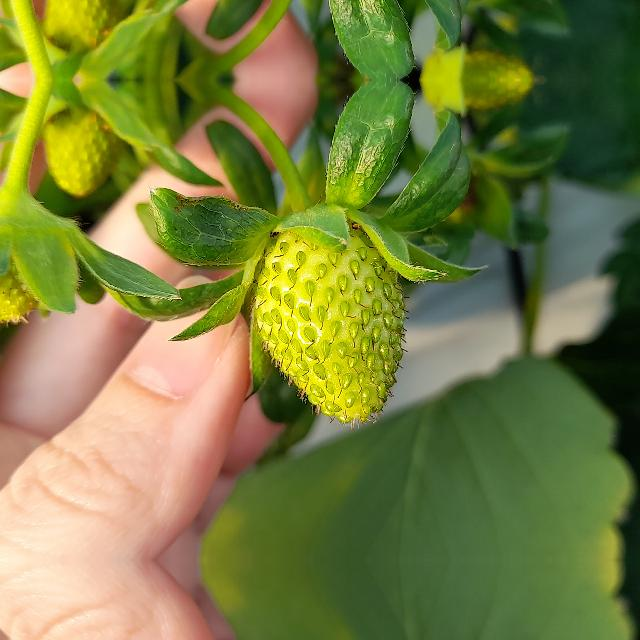Health_25: (252, 218, 410, 430)
